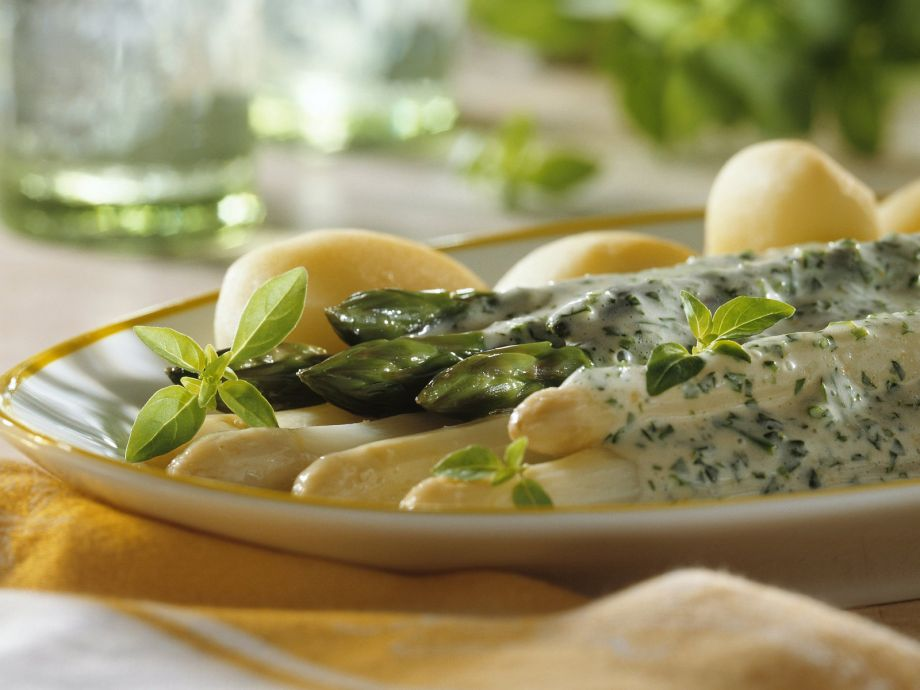boiled potatoes: (228, 233, 476, 344), (701, 145, 883, 242), (502, 234, 680, 278)
